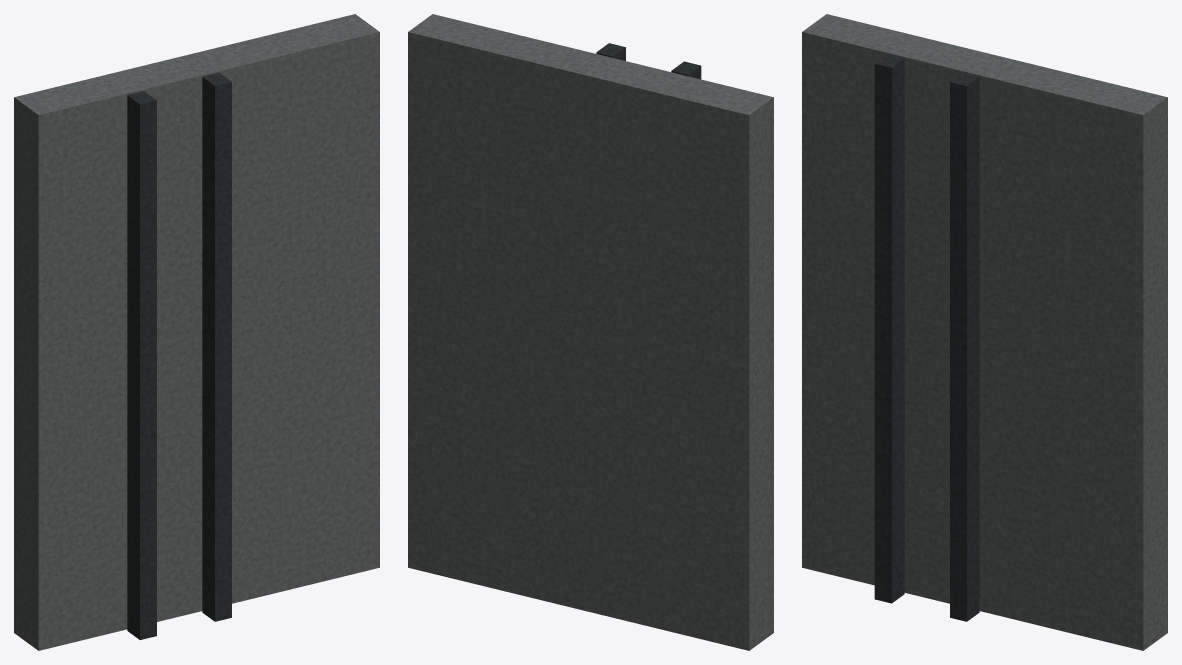
Rendered from METL21CC_lod2.glb.
3 renders of one model, left to right at view 1: azimuth 30°, elevation 25°; view 2: azimuth 150°, elevation 25°; view 3: azimuth 330°, elevation 25°, orthographic.
Visible parts, largest first — view 1: METL21CC_LOD2; view 2: METL21CC_LOD2; view 3: METL21CC_LOD2.
Part boxes in pixels (left/top/right/bottom): METL21CC_LOD2: left=14, top=14, right=379, bottom=650; METL21CC_LOD2: left=408, top=14, right=773, bottom=650; METL21CC_LOD2: left=802, top=14, right=1167, bottom=650.
Bounding box in the file's own units: 2 × 3 × 0.395.
2 materials, 2 textured.
